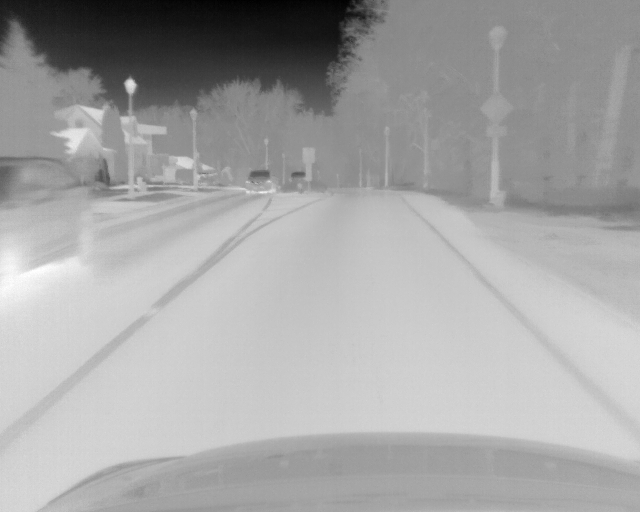car: (1, 156, 95, 289), (244, 168, 278, 193), (289, 169, 309, 191)
